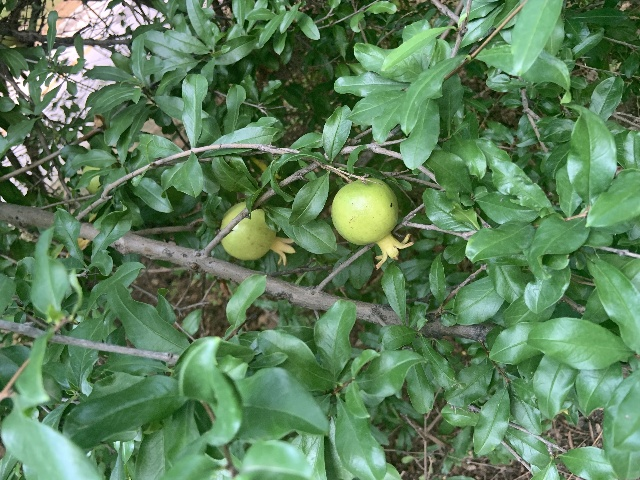mid-growth: (330, 177, 415, 266), (219, 201, 295, 266)
